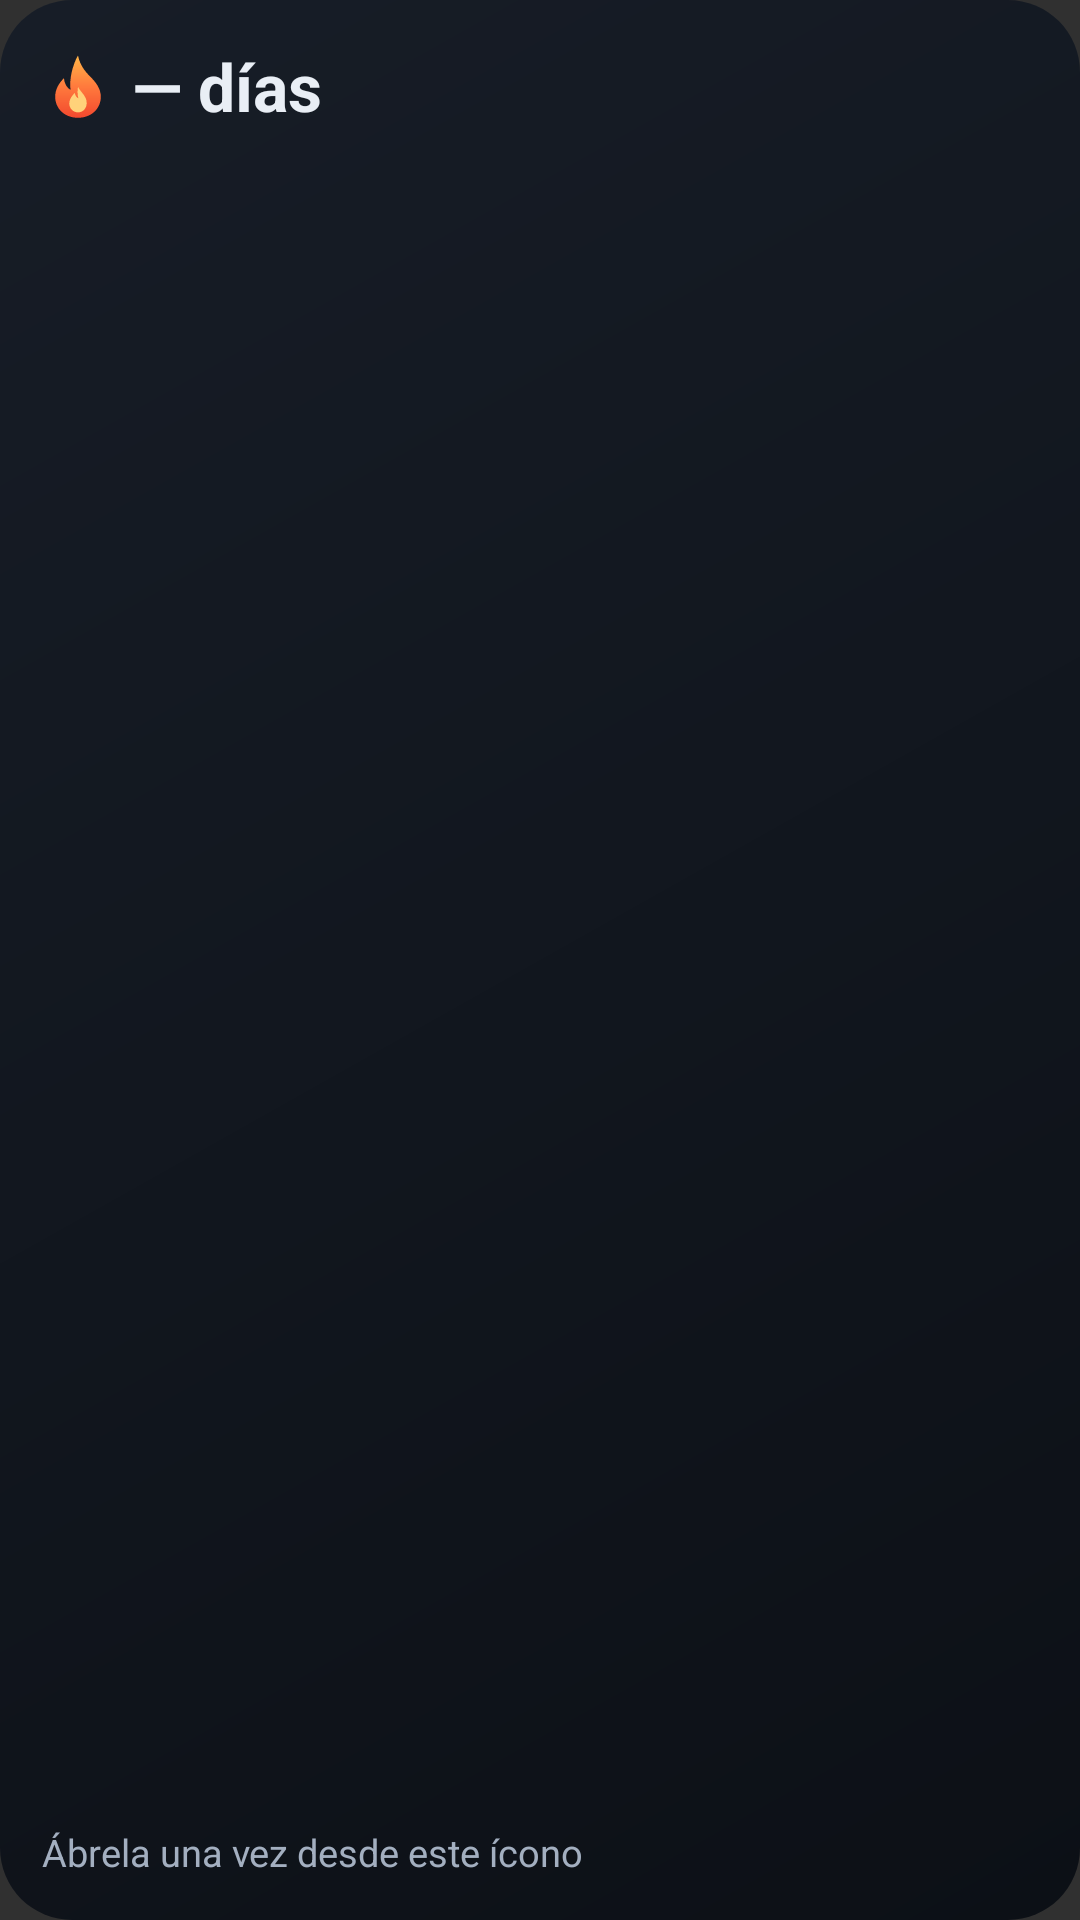

Locate icon controls on the screen. Image size 1080 x 1920, boxes as box(x1, y1, x2, y2).
flame: box(55, 56, 101, 118)
